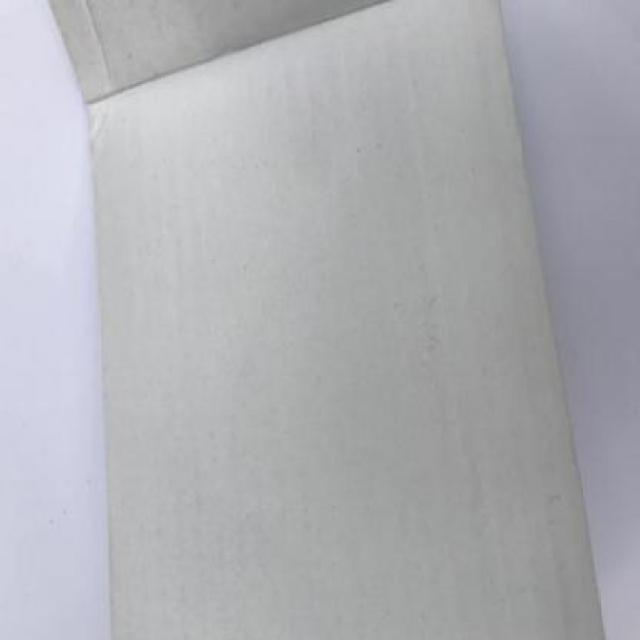box: (44, 0, 638, 640)
